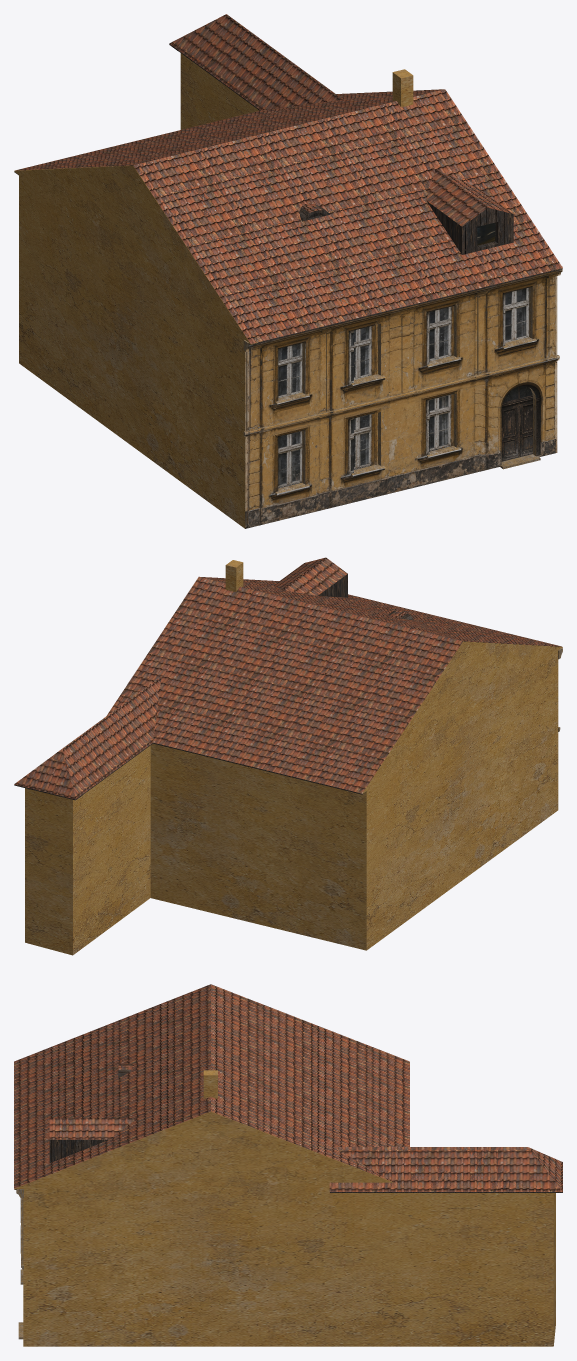
File: cp265_study.glb
The picture shows the model from 3 angles, top to bottom: view 1: azimuth 30°, elevation 25°; view 2: azimuth 150°, elevation 25°; view 3: azimuth 270°, elevation 25°; orthographic projection. The views are drawn at different scales.
Visible parts, largest first — view 1: CP_265_Masonry, CP_265_Roof, CP_265_Gable_L_gable, CP_265_WingRoof_Rear_Wing, CP_265_Dormer_dormer1, CP_265_Cornice_eave_0, CP_265_Cornice_string_0, CP_265_Chimney_0, CP_265_Pilaster_3, CP_265_Pilaster_0, CP_265_Pilaster_1, CP_265_Pilaster_2 (+1 smaller); view 2: CP_265_Masonry, CP_265_Roof, CP_265_Gable_L_gable, CP_265_WingRoof_Rear_Wing, CP_265_Dormer_dormer1, CP_265_Chimney_0; view 3: CP_265_Masonry, CP_265_Roof, CP_265_Gable_R_gable, CP_265_WingRoof_Rear_Wing, CP_265_Dormer_dormer1.
Boxes of the visible parts, x1,y1,x2,y2 form: CP_265_Masonry: (19,53,557,528); CP_265_Roof: (15,89,562,343); CP_265_Gable_L_gable: (14,165,257,344); CP_265_WingRoof_Rear_Wing: (169,14,342,110); CP_265_Dormer_dormer1: (426,169,513,254); CP_265_Cornice_eave_0: (243,266,562,351); CP_265_Cornice_string_0: (243,355,559,436); CP_265_Chimney_0: (392,69,413,107); CP_265_Pilaster_3: (477,293,485,374); CP_265_Pilaster_0: (246,350,254,431); CP_265_Pilaster_1: (326,330,334,411); CP_265_Pilaster_2: (401,312,409,393); CP_265_Masonry: (25,650,558,955); CP_265_Roof: (107,576,561,793); CP_265_Gable_L_gable: (356,641,562,793); CP_265_WingRoof_Rear_Wing: (14,676,161,799); CP_265_Dormer_dormer1: (274,557,347,597); CP_265_Chimney_0: (225,560,243,591); CP_265_Masonry: (23,1189,555,1346); CP_265_Roof: (14,984,409,1188); CP_265_Gable_R_gable: (14,1111,392,1189); CP_265_WingRoof_Rear_Wing: (329,1147,562,1191); CP_265_Dormer_dormer1: (49,1118,136,1162).
Bounding box in the file's own units: 13.05 × 11.97 × 23.15.
Materials: 7 (7 with a texture image).
